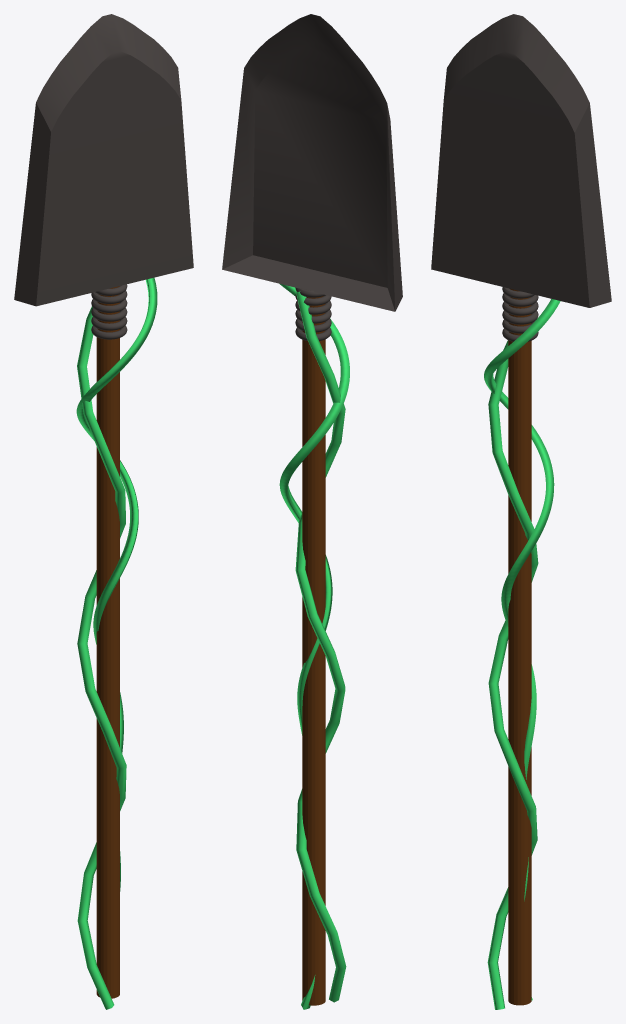
Rendered from pala_arma (1).fbx.
3 views of the same model, side by side, from view 1: azimuth 30°, elevation 25°; view 2: azimuth 150°, elevation 25°; view 3: azimuth 330°, elevation 25° (orthographic).
Visible parts, largest first — view 1: Cube, Cube.001, Cylinder, Cylinder.001; view 2: Cube, Cube.001, Cylinder, Cylinder.001; view 3: Cube, Cube.001, Cylinder, Cylinder.001.
Part boxes in pixels (left/top/right/bottom): Cube: left=14, top=14, right=193, bottom=306; Cube.001: left=96, top=286, right=119, bottom=998; Cylinder: left=77, top=306, right=126, bottom=1009; Cylinder.001: left=76, top=277, right=157, bottom=891; Cube: left=222, top=14, right=402, bottom=311; Cube.001: left=302, top=296, right=325, bottom=1005; Cylinder: left=295, top=291, right=346, bottom=1002; Cylinder.001: left=279, top=283, right=349, bottom=1009; Cube: left=431, top=14, right=611, bottom=307; Cube.001: left=508, top=288, right=531, bottom=1005; Cylinder: left=487, top=340, right=538, bottom=1009; Cylinder.001: left=484, top=299, right=560, bottom=1000.
Bounding box in the file's own units: 147 × 803 × 53.06.
